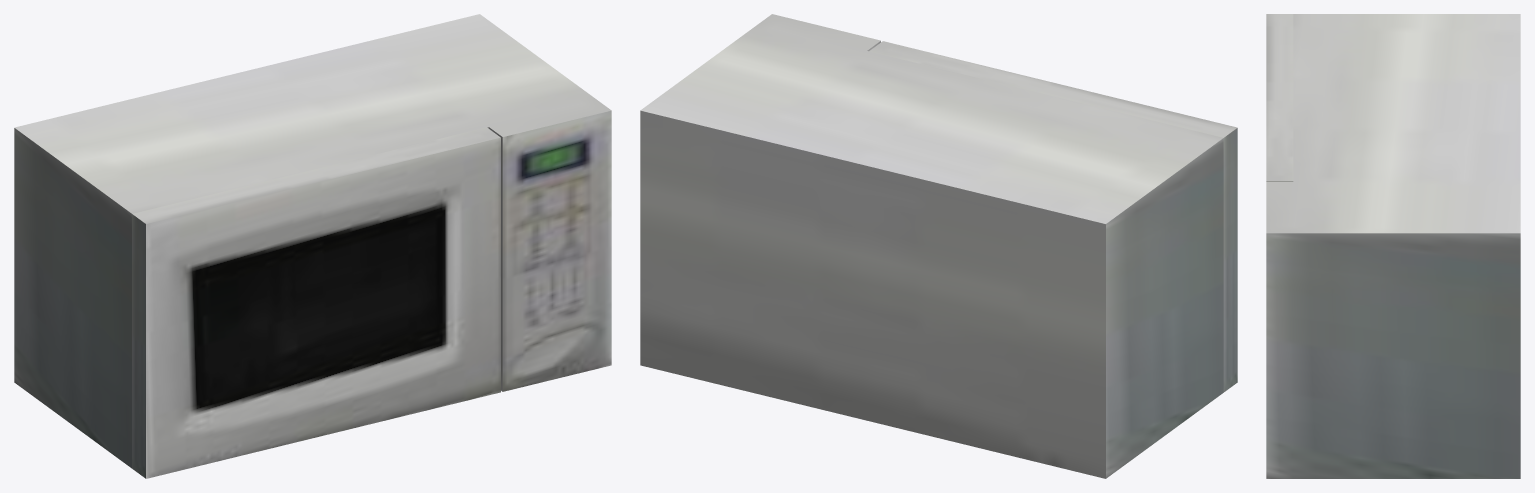
The model's file is microwave.FBX.
3 views of the same model, side by side, from view 1: azimuth 30°, elevation 25°; view 2: azimuth 150°, elevation 25°; view 3: azimuth 270°, elevation 25° (orthographic). The views are drawn at different scales.
Parts seen in each view (by area): view 1: microwave, microwave_door; view 2: microwave, microwave_door; view 3: microwave, microwave_door.
Part boxes in pixels (x1,y1,x2,y2): microwave: (14, 14, 611, 468); microwave_door: (132, 127, 500, 478); microwave: (640, 14, 1223, 478); microwave_door: (869, 41, 1237, 392); microwave: (1266, 14, 1520, 478); microwave_door: (1266, 14, 1293, 181).
Bounding box in the file's own units: 23.18 × 12.12 × 11.38.
